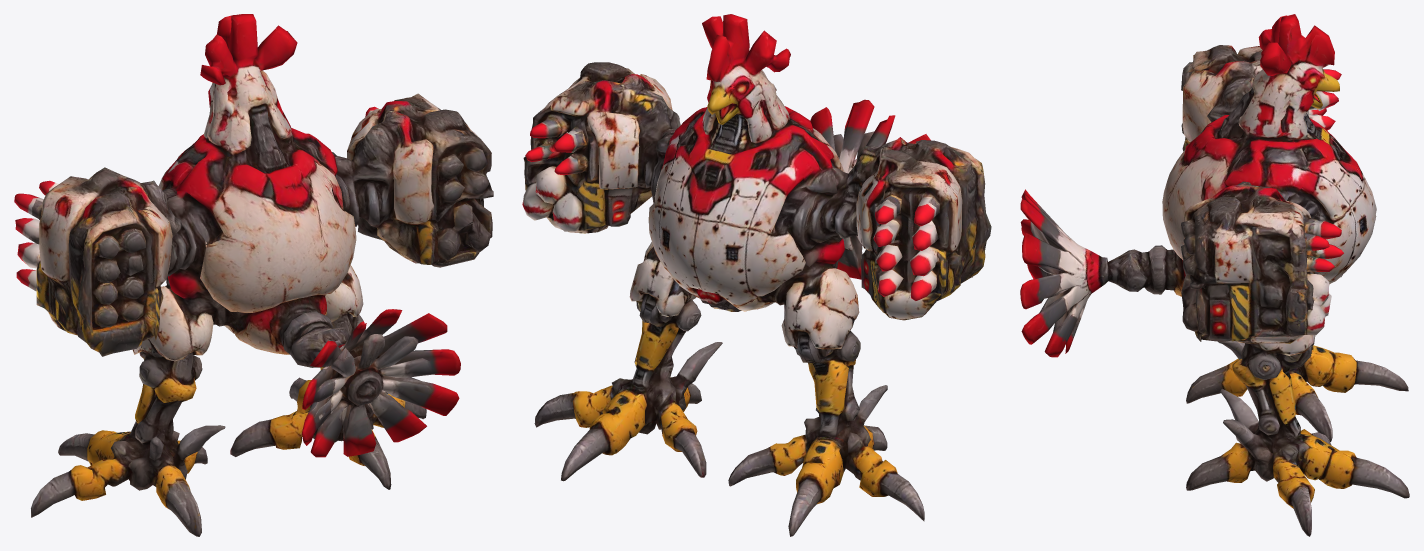
The model's file is roger.glb.
3 views of the same model, side by side, from view 1: azimuth 30°, elevation 25°; view 2: azimuth 150°, elevation 25°; view 3: azimuth 270°, elevation 25° (orthographic). The views are drawn at different scales.
Visible parts, largest first — view 1: model; view 2: model; view 3: model.
Part boxes in pixels (x1,y1,x2,y2): model: [14, 14, 493, 536]; model: [522, 14, 991, 536]; model: [1020, 14, 1409, 536].
Bounding box in the file's own units: 0.9581 × 0.9996 × 0.815.
Materials: 1 (1 with a texture image).
